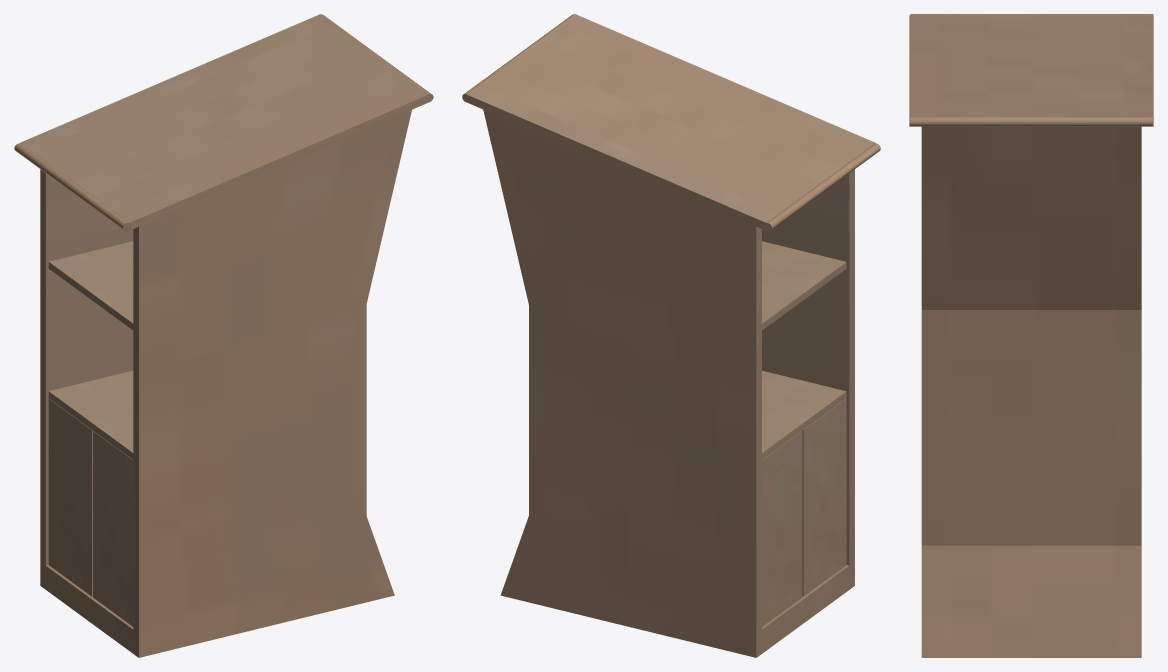
Rendered from classroom_podium.obj.
The picture shows the model from 3 angles, left to right: view 1: azimuth 30°, elevation 25°; view 2: azimuth 150°, elevation 25°; view 3: azimuth 270°, elevation 25°; orthographic projection. The views are drawn at different scales.
Visible parts, largest first — view 1: Cube, Cube.005, Cube.004, Cube.003, Cube.001, Cube.002, Cylinder.001; view 2: Cube, Cube.005, Cube.003, Cube.004, Cube.001, Cube.002, Cylinder.001; view 3: Cube, Cube.005, Cylinder, Cylinder.001.
Part boxes in pixels (x1=…): Cube: x1=40, y1=110, x2=411, y2=657; Cube.005: x1=20, y1=14, x2=431, y2=230; Cube.004: x1=48, y1=398, x2=92, y2=596; Cube.003: x1=93, y1=431, x2=133, y2=626; Cube.001: x1=48, y1=241, x2=133, y2=330; Cube.002: x1=48, y1=370, x2=133, y2=459; Cylinder.001: x1=14, y1=143, x2=129, y2=231; Cube: x1=483, y1=109, x2=854, y2=657; Cube.005: x1=464, y1=14, x2=875, y2=229; Cube.003: x1=802, y1=398, x2=846, y2=596; Cube.004: x1=762, y1=431, x2=802, y2=626; Cube.001: x1=762, y1=241, x2=846, y2=330; Cube.002: x1=762, y1=370, x2=846, y2=459; Cylinder.001: x1=765, y1=143, x2=880, y2=231; Cube: x1=921, y1=126, x2=1141, y2=657; Cube.005: x1=909, y1=15, x2=1153, y2=126; Cylinder: x1=909, y1=116, x2=1152, y2=126; Cylinder.001: x1=910, y1=14, x2=1153, y2=15.
Bounding box in the file's own units: 1.64 × 2.51 × 1.
